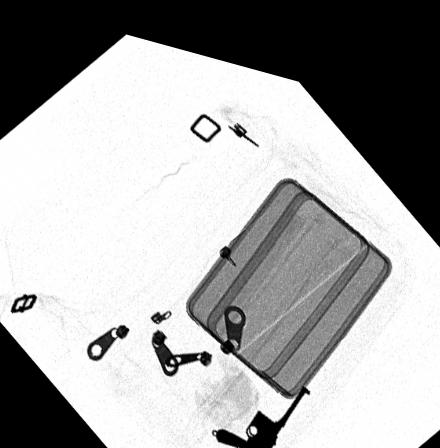Gun: (216, 368, 312, 448)
